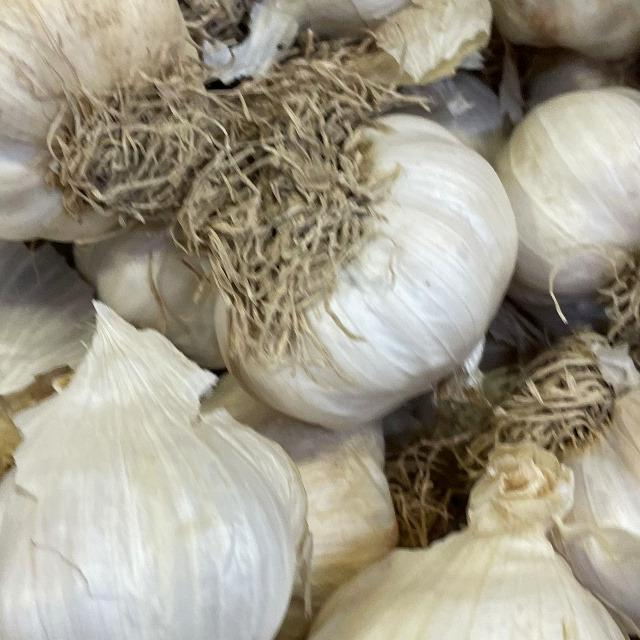garlic: (270, 452, 640, 640), (0, 0, 217, 265)
